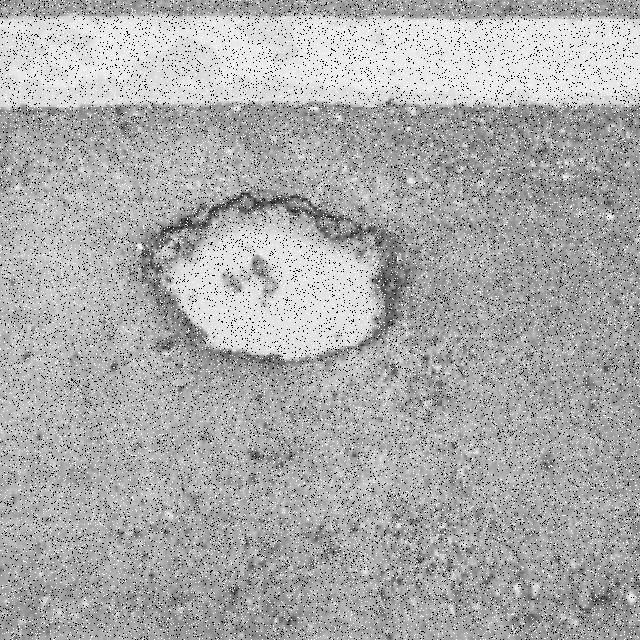pothole: (141, 195, 388, 364)
